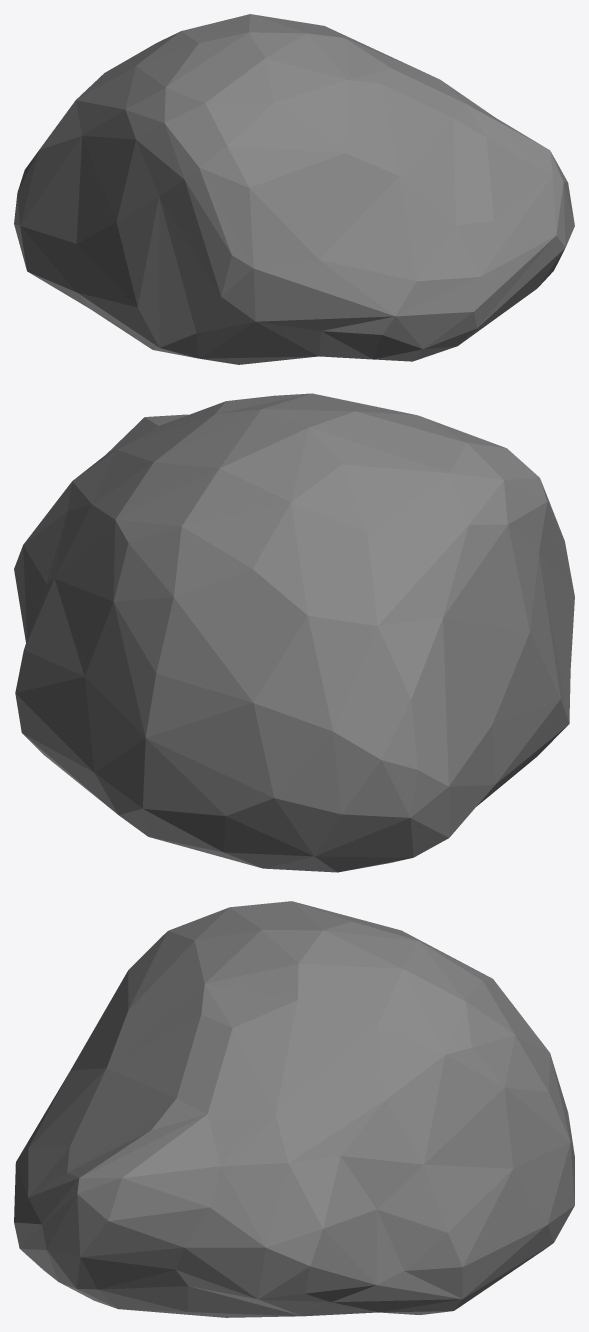
The model's file is pierre1.gltf.
3 views of the same model, one above another, from view 1: azimuth 30°, elevation 25°; view 2: azimuth 150°, elevation 25°; view 3: azimuth 270°, elevation 25° (orthographic). The views are drawn at different scales.
Parts seen in each view (by area): view 1: Icosphere; view 2: Icosphere; view 3: Icosphere.
Part boxes in pixels (left/top/right/bottom): Icosphere: left=14, top=14, right=574, bottom=364; Icosphere: left=14, top=393, right=574, bottom=872; Icosphere: left=14, top=901, right=574, bottom=1317.
Bounding box in the file's own units: 1.51 × 0.9606 × 1.55.
1 material, 1 textured.
